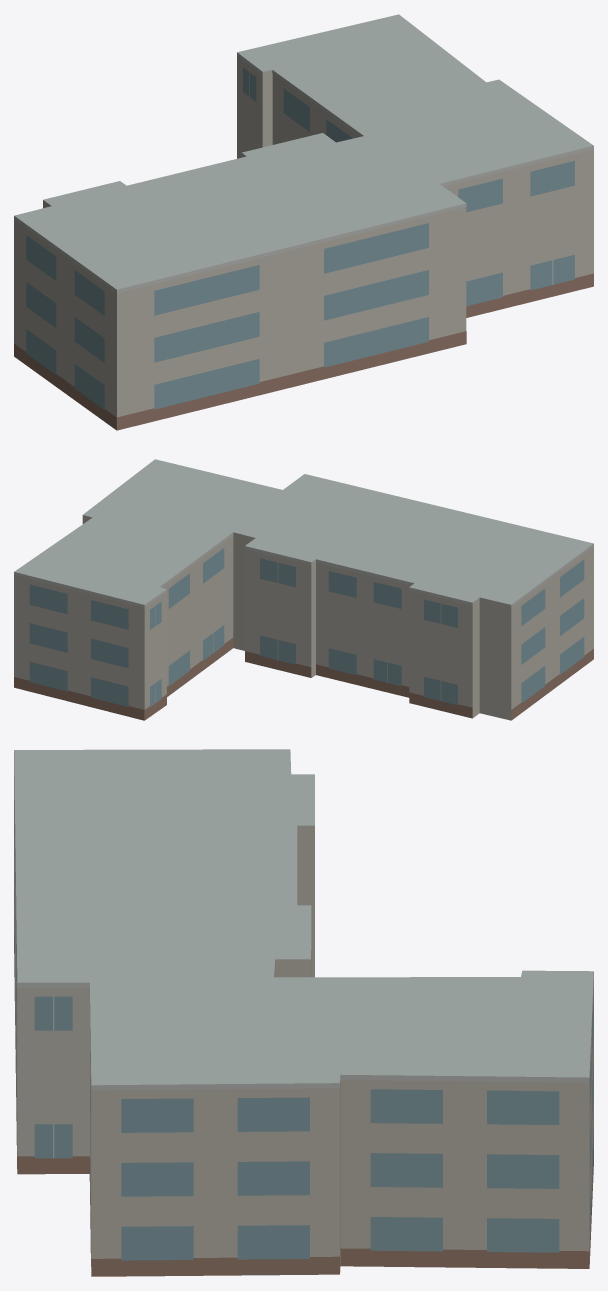
The model's file is survey-upis-32887144.glb.
3 views of the same model, one above another, from view 1: azimuth 30°, elevation 25°; view 2: azimuth 150°, elevation 25°; view 3: azimuth 270°, elevation 25° (orthographic). The views are drawn at different scales.
Visible parts, largest first — view 1: survey-upis-32887144.tmp; view 2: survey-upis-32887144.tmp; view 3: survey-upis-32887144.tmp.
Boxes of the visible parts, <box> form: survey-upis-32887144.tmp: <box>14,14,593,430</box>; survey-upis-32887144.tmp: <box>14,459,593,720</box>; survey-upis-32887144.tmp: <box>14,749,593,1276</box>.
Bounding box in the file's own units: 34.44 × 9.15 × 25.12.
